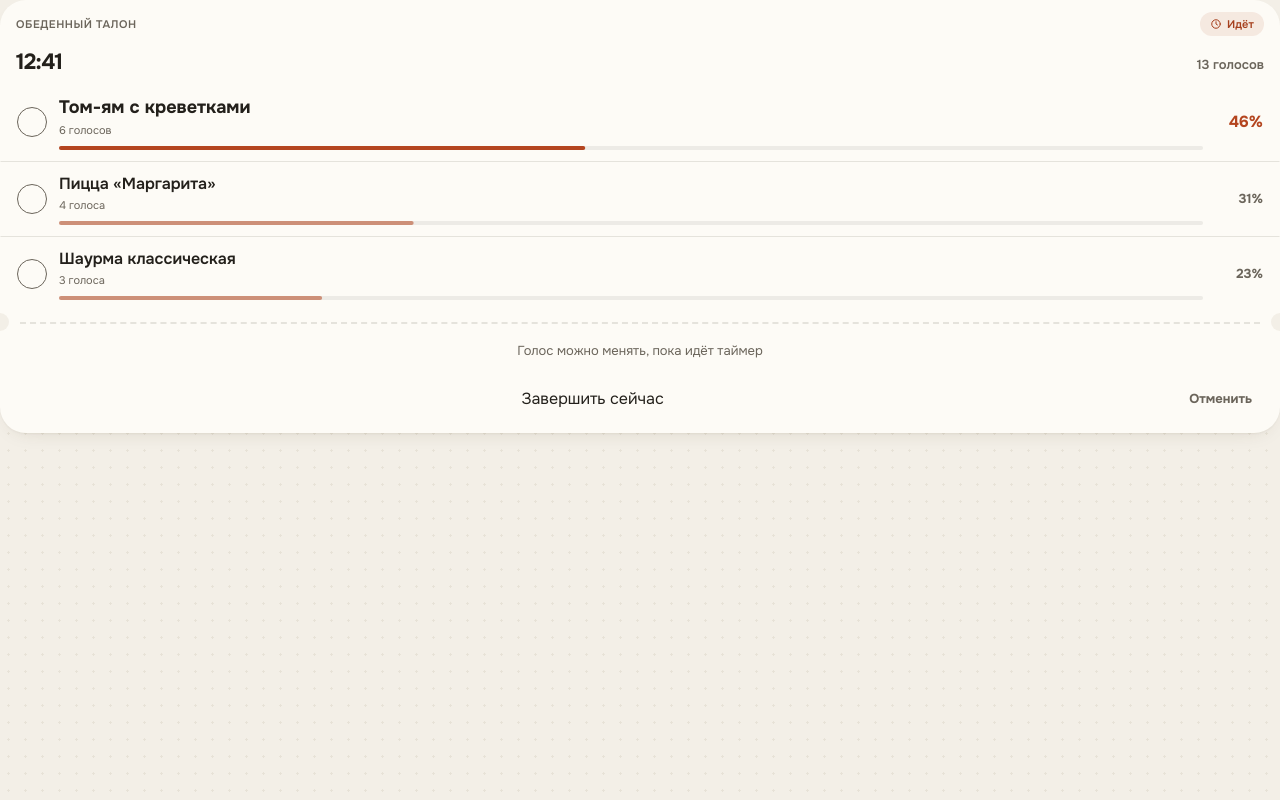
LunchTicket — админ-действия под подтверждением › «Отменить» без подтверждения ничего не рушит
Click the button "Отменить".
click(1221, 399)  # box x1=1177 y1=377 x2=1264 y2=421
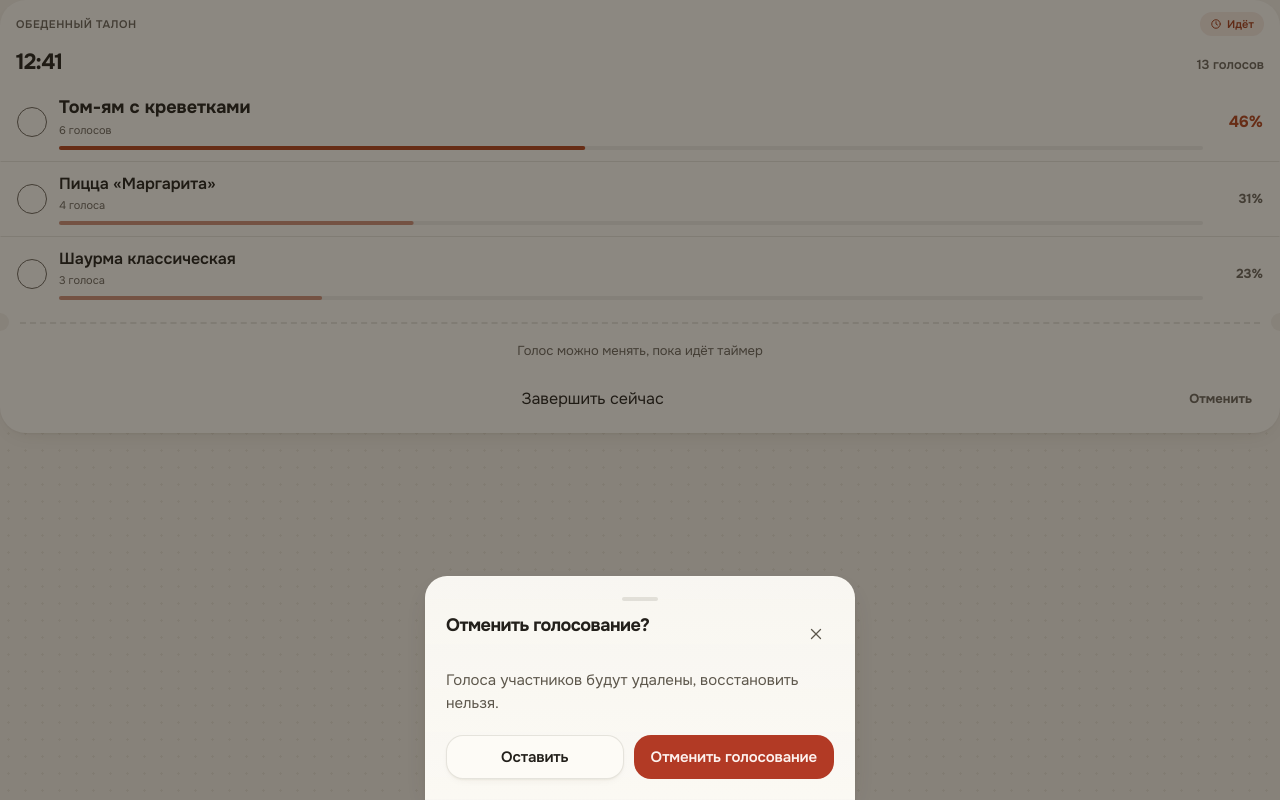
Result: the heading "Отменить голосование?" is shown at x1=446 y1=614 x2=649 y2=636
Result: the text "Голоса участников будут удалены, восстановить нельзя." is shown at x1=446 y1=668 x2=834 y2=715
